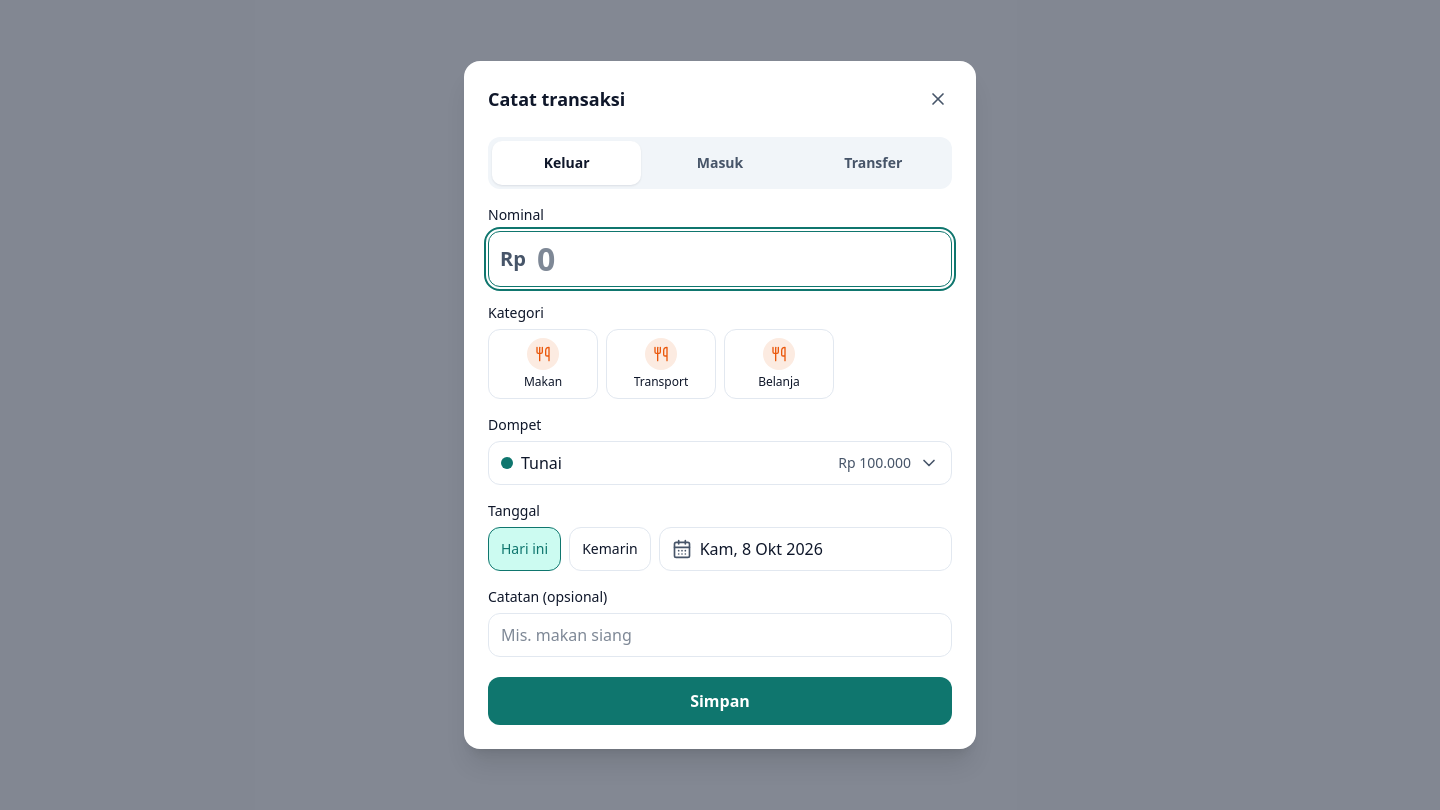
Test: saran kategori di form transaksi › pilihan pengguna sebelumnya menang atas kamus kata kunci
Expected: the field labelled "Nominal" is shown, [488,231,952,287]
Expected: the element "Kategori" is shown, [488,303,834,399]
Type "Kopi Tuku" into the text box labelled "Catatan (opsional)".
click(720, 635); type("Kopi Tuku")  # box [488,613,952,657]
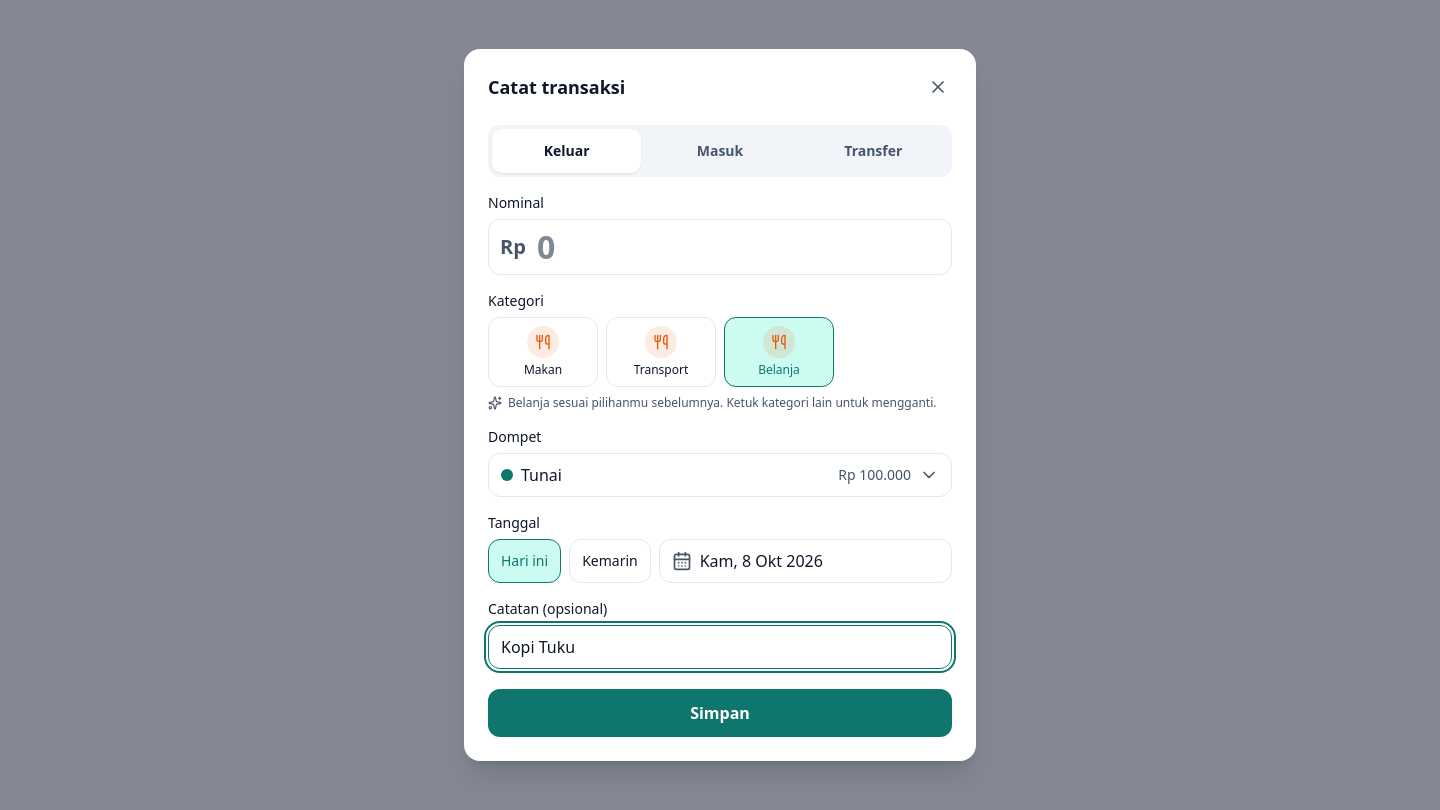
Result: the radio button labelled "Belanja" is checked at [724,317,834,387]
Result: the text "Belanja sesuai pilihanmu sebelumnya." is shown at [508,394,723,411]
